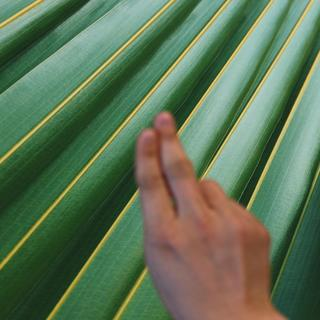DHAVE: (126, 107, 277, 320)
